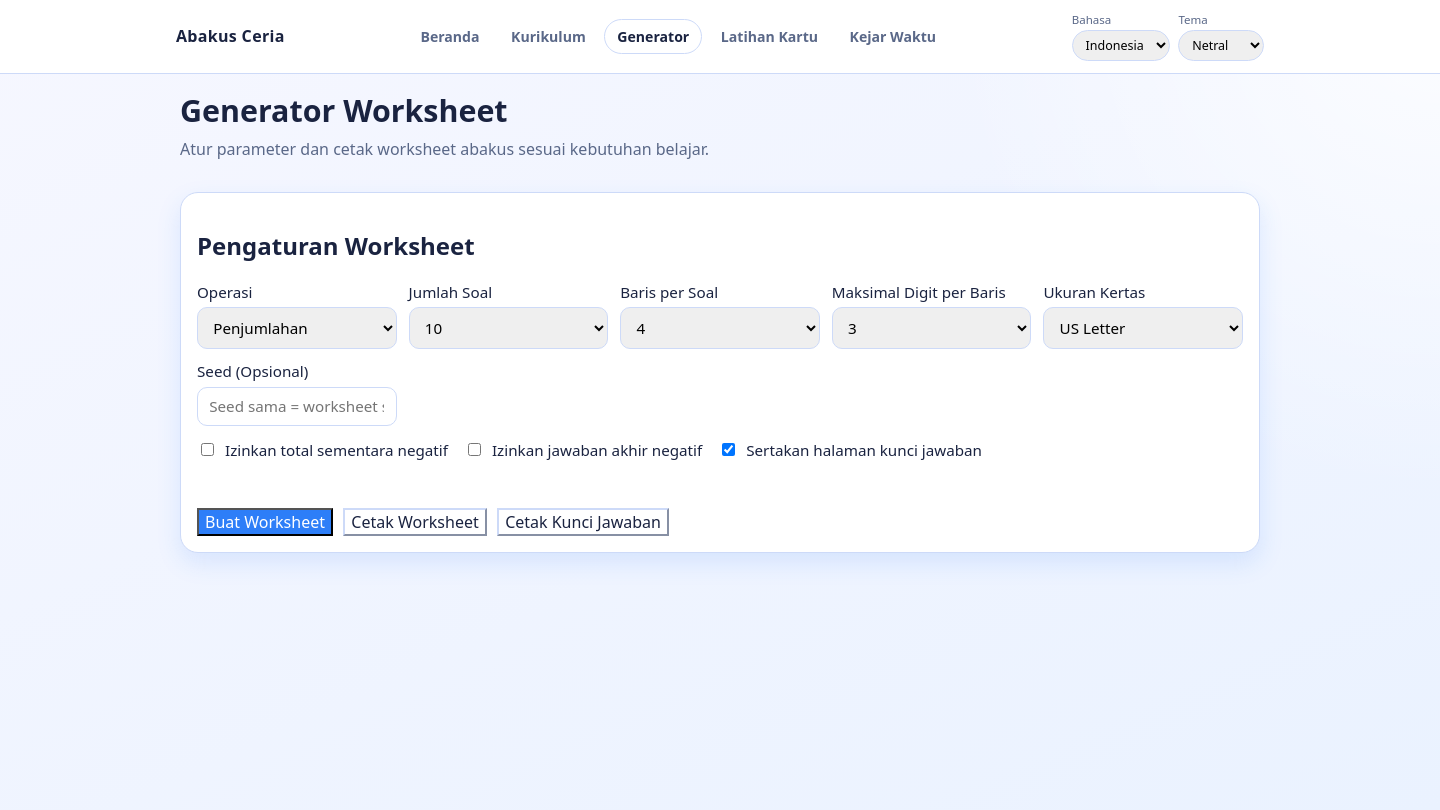
Test case: Generator page › shows validation error for invalid questions input
The width and height of the screenshot is (1440, 810).
Select "0" in the dropdown labelled "Jumlah Soal" at coordinates (508, 328), box [409,307,608,349]
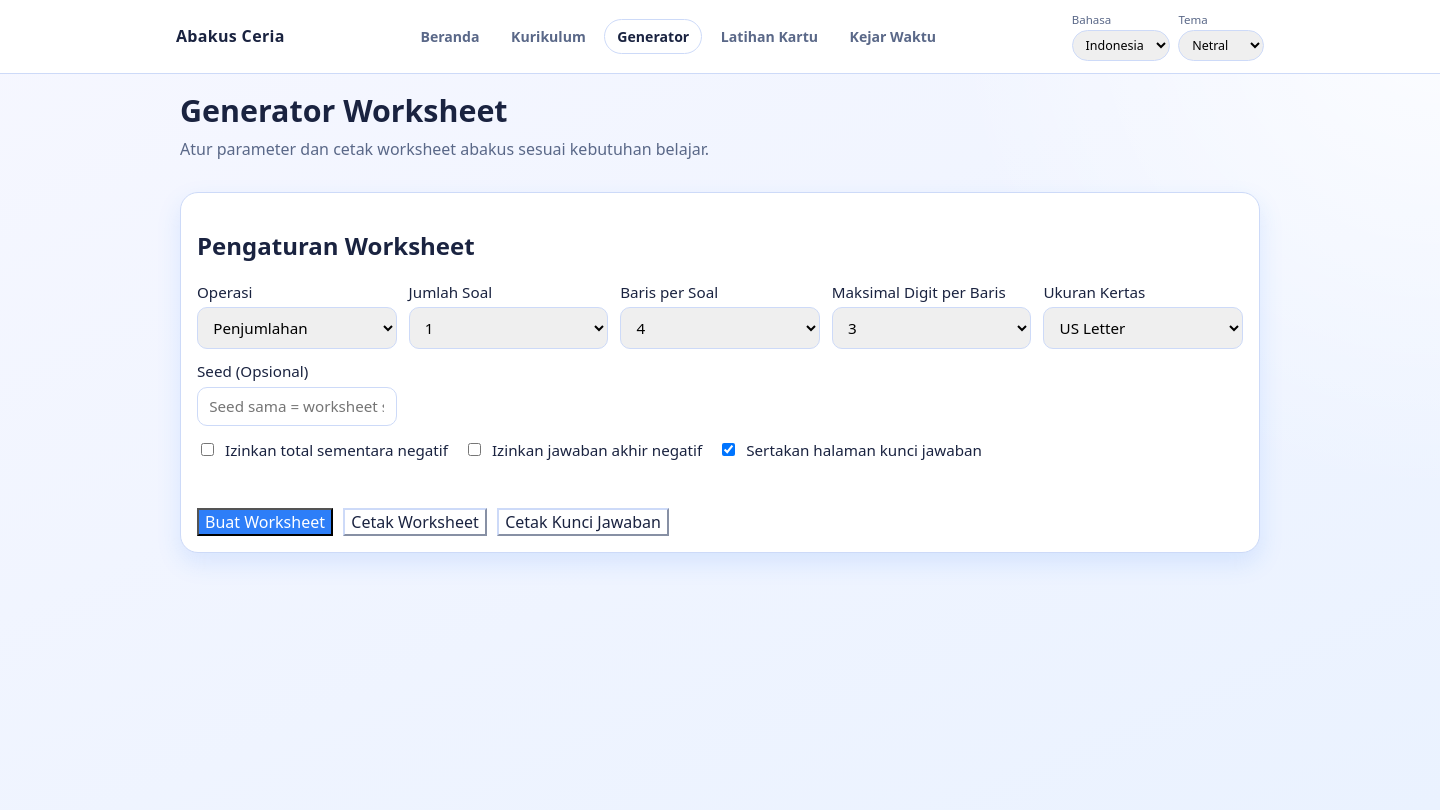
Click the button "Buat Worksheet" at coordinates (265, 522), box [197,508,333,536]
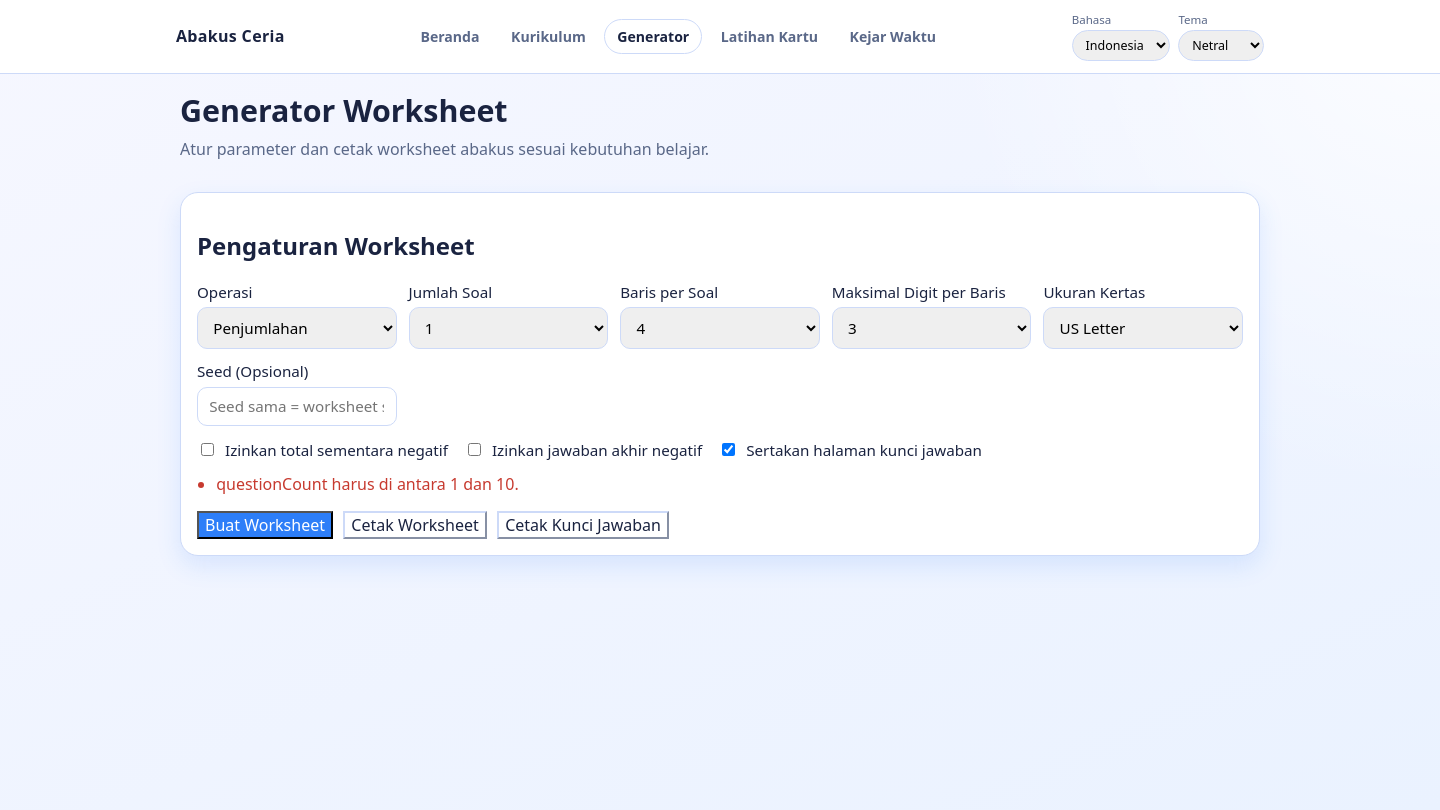
Now the list item "questionCount harus di antara 1 dan 10." is shown, box [216,472,519,494]
